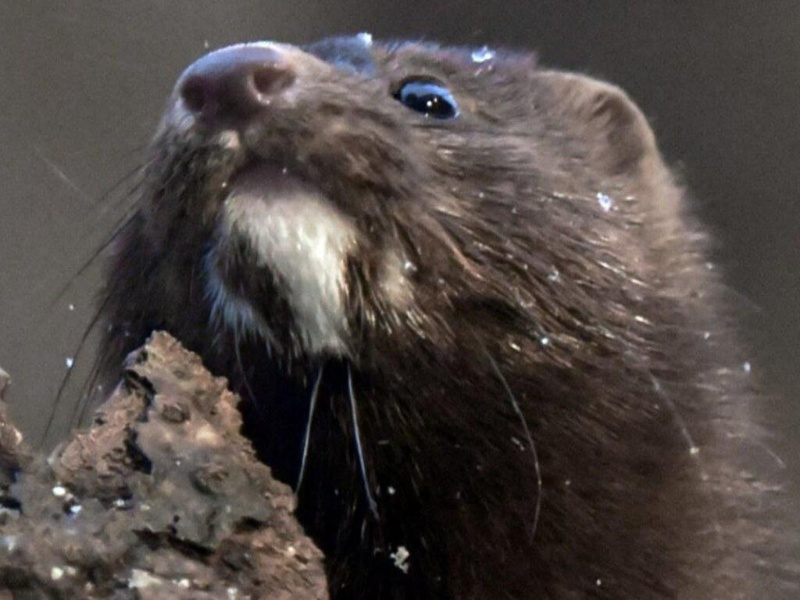minkish: (83, 28, 779, 597)
